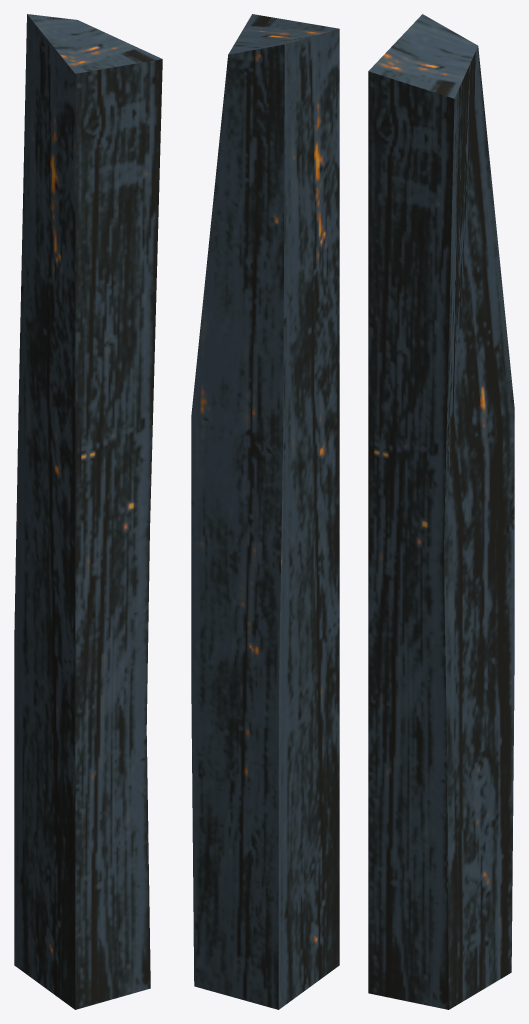
The model's file is post_1.fbx.
3 views of the same model, side by side, from view 1: azimuth 30°, elevation 25°; view 2: azimuth 150°, elevation 25°; view 3: azimuth 330°, elevation 25° (orthographic).
Parts seen in each view (by area): view 1: post_1; view 2: post_1; view 3: post_1.
Boxes of the visible parts, x1,y1,x2,y2 form: post_1: (14, 14, 162, 1009); post_1: (191, 14, 339, 1009); post_1: (368, 14, 514, 1009).
Size of the model in its own units: 0.0017 by 0.0177 by 0.00205.
